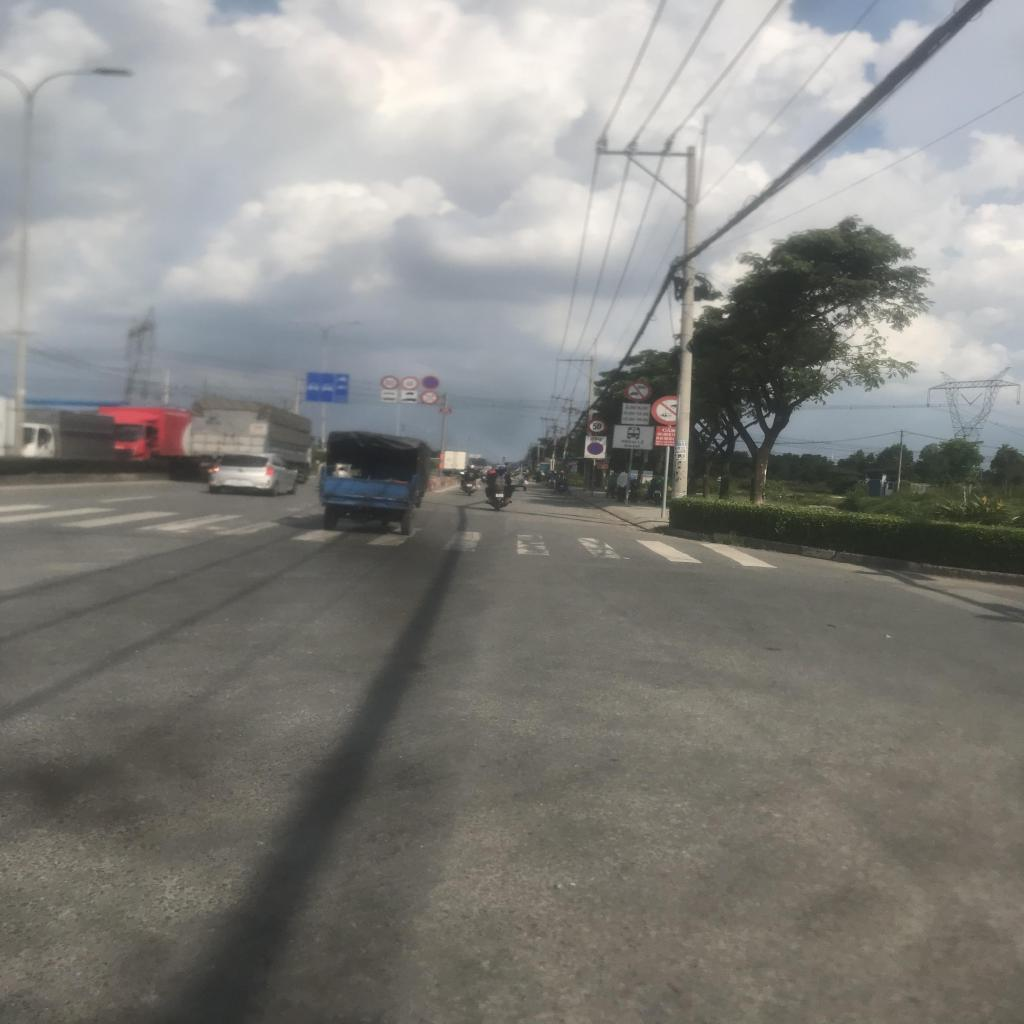cam_cac_loai_xe_3_banh: (650, 396, 678, 425)
cam_dung_xe_va_do_xe: (421, 376, 439, 389), (587, 442, 604, 455)
cam_o_to_tai_va_xe_khach: (624, 380, 652, 402)
cam_xe_2_banh_va_xe_3_banh_co_dong_co: (421, 390, 438, 406)
khac: (611, 425, 654, 450), (622, 402, 650, 425), (381, 390, 398, 397), (381, 396, 397, 402), (401, 397, 417, 403), (402, 391, 416, 397)
lan_duong_cho_tung_xe_theo_vach_ke_duong: (306, 372, 348, 402)
toc_do_toi_da_50: (586, 418, 607, 434)
toc_do_toi_da_60: (401, 376, 419, 390)
toc_do_toi_da_80: (380, 375, 400, 390)
